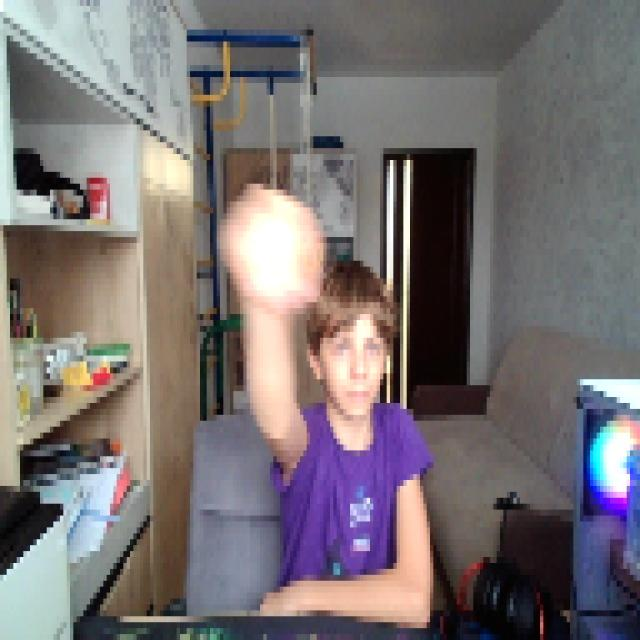left_click: (214, 172, 324, 308)
